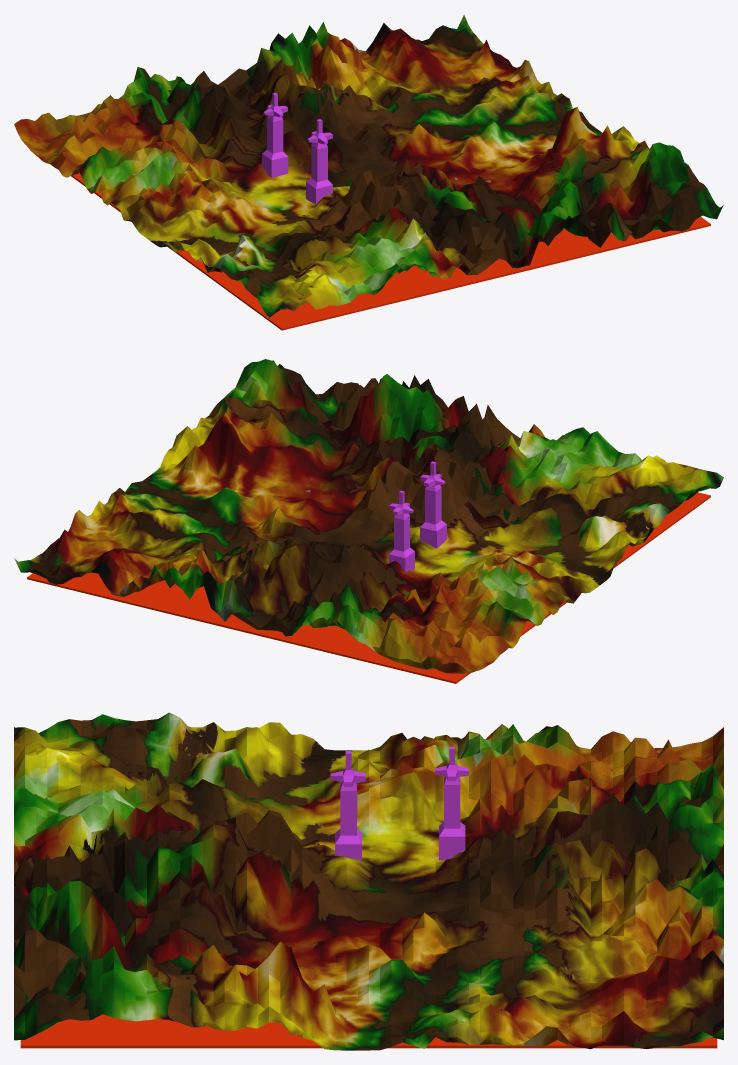
The model's file is ground.glb.
3 views of the same model, one above another, from view 1: azimuth 30°, elevation 25°; view 2: azimuth 150°, elevation 25°; view 3: azimuth 270°, elevation 25° (orthographic). The views are drawn at different scales.
Visible parts, largest first — view 1: Plane, Cube.002, Cube.001, Cube.000; view 2: Plane, Cube.002, Cube.000, Cube.001; view 3: Plane, Cube.002, Cube.001, Cube.000.
Part boxes in pixels (bbox=[...]): Plane: bbox=[14, 14, 723, 317]; Cube.002: bbox=[71, 173, 710, 330]; Cube.001: bbox=[262, 92, 288, 177]; Cube.000: bbox=[306, 119, 332, 203]; Plane: bbox=[14, 359, 723, 673]; Cube.002: bbox=[27, 492, 710, 683]; Cube.000: bbox=[420, 461, 446, 548]; Cube.001: bbox=[389, 490, 414, 571]; Plane: bbox=[14, 712, 723, 1050]; Cube.002: bbox=[20, 1014, 717, 1048]; Cube.001: bbox=[435, 746, 468, 860]; Cube.000: bbox=[330, 751, 365, 860].
Size of the model in its own units: 72.15 by 12.9 by 72.15.
Materials: 3 (1 with a texture image).
